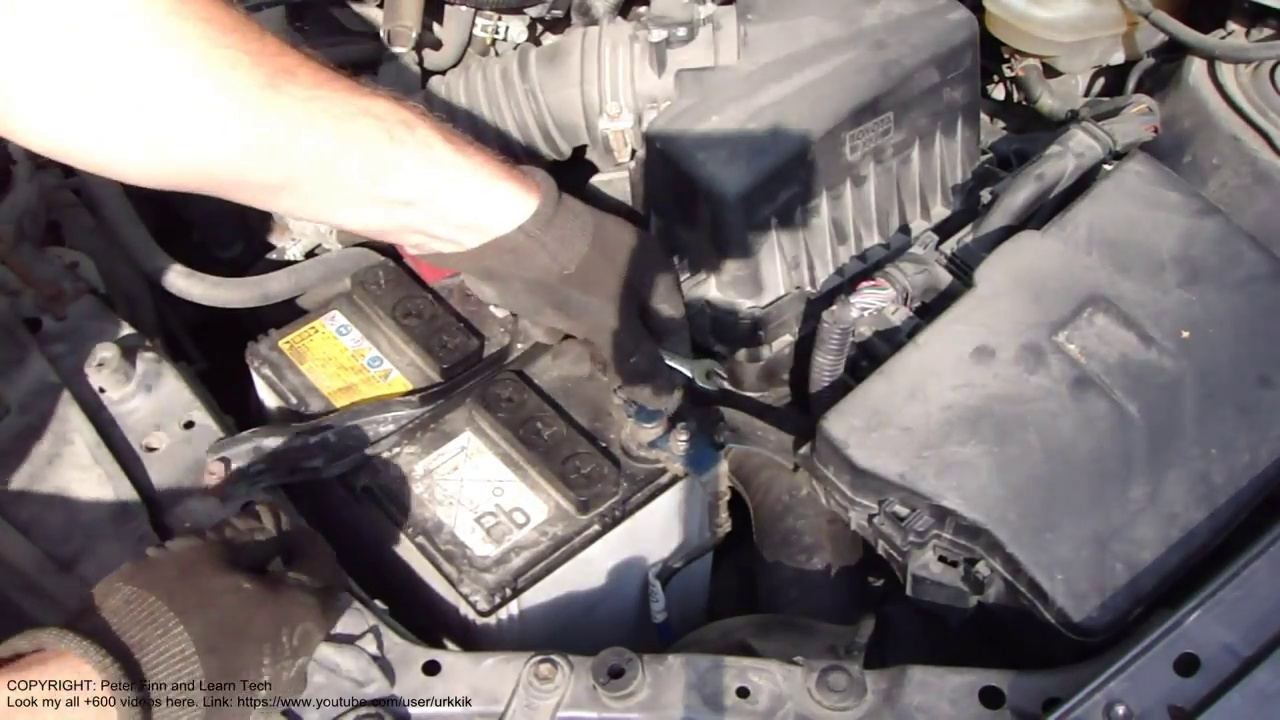battery: (240, 219, 741, 598)
